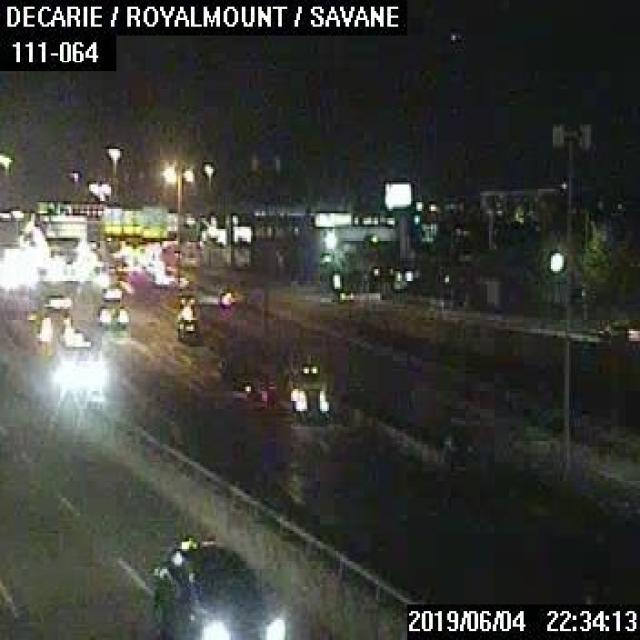vehicle: (149, 538, 284, 638), (282, 360, 331, 413), (39, 293, 75, 336), (96, 284, 128, 329), (595, 316, 638, 346), (216, 284, 240, 306)
